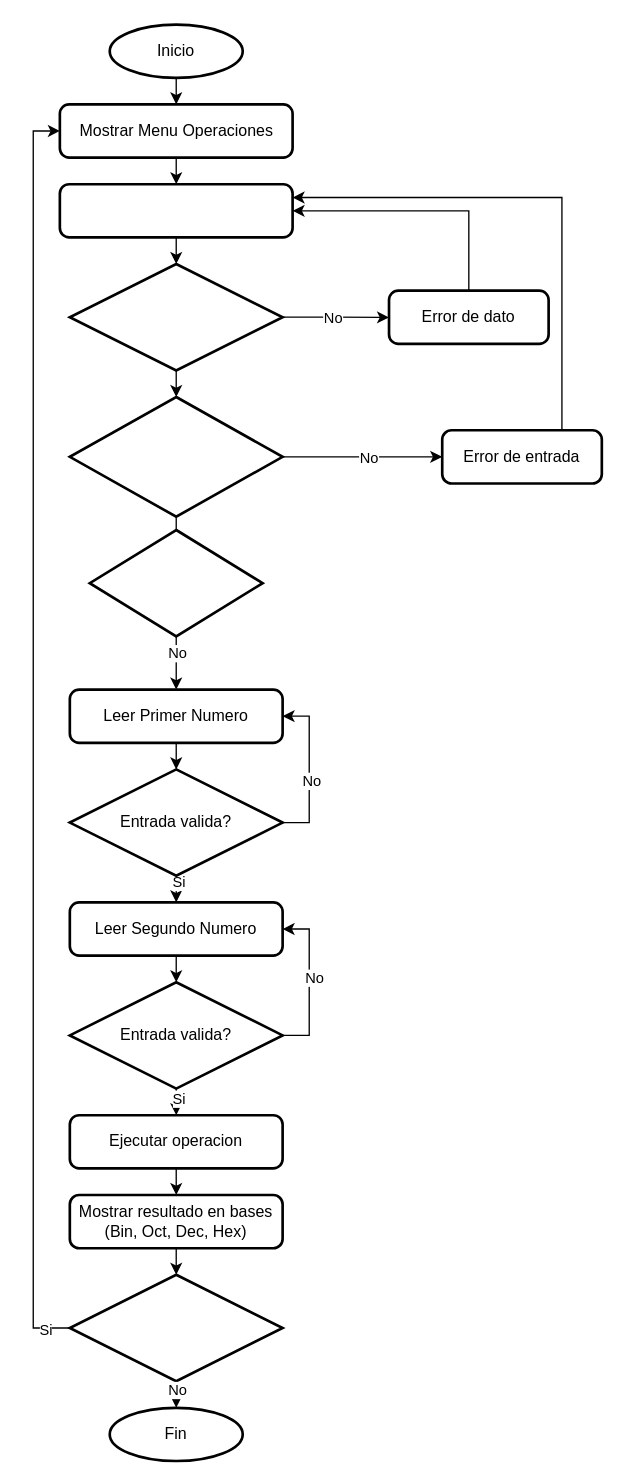
The diagram is 625 pixels wide and 1484 high, and some of its shapes have lost their labels. The shapes that lost their labels are listed below. From the top down, each one's centre as x and y in pixels, then its label:
At pixel 175 210: "Leer Opcion de Menu".
At pixel 175 316: "Entrada es un numero?".
At pixel 175 456: "Entrada correcta del menu?".
At pixel 175 582: "Es igual a salir (0)?".
At pixel 175 1327: "Realizar otra operacion?".
